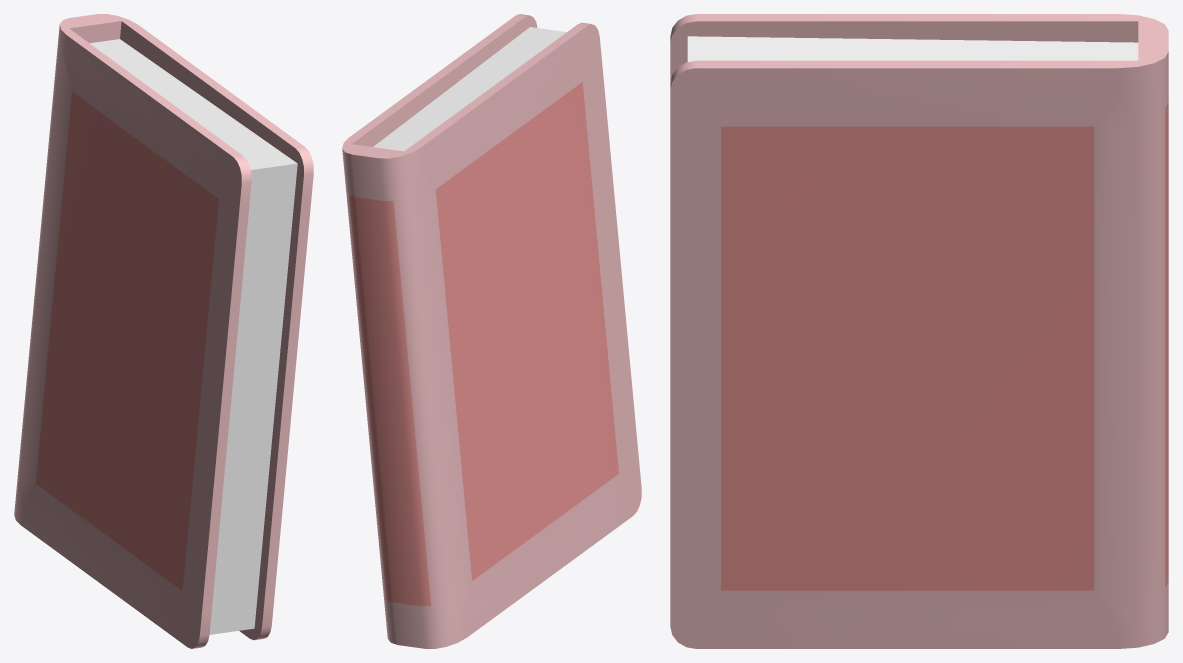
File: book_23.fbx
The picture shows the model from 3 angles, left to right: view 1: azimuth 30°, elevation 25°; view 2: azimuth 150°, elevation 25°; view 3: azimuth 270°, elevation 25°; orthographic projection. The views are drawn at different scales.
Visible parts, largest first — view 1: book_23; view 2: book_23; view 3: book_23.
Part boxes in pixels (x1=…): book_23: x1=14, y1=14, x2=313, y2=648; book_23: x1=342, y1=14, x2=641, y2=648; book_23: x1=670, y1=14, x2=1168, y2=648.
Bounding box in the file's own units: 0.0801 × 0.3169 × 0.2314.
